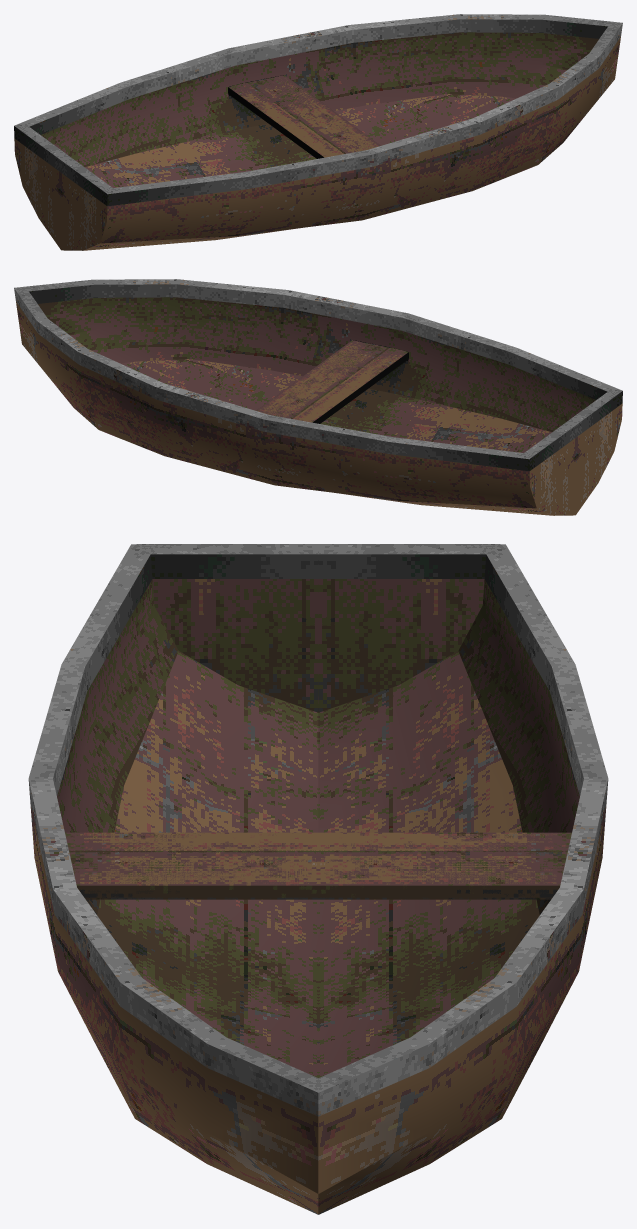
Rendered from Rowboat.glb.
3 renders of one model, top to bottom at view 1: azimuth 30°, elevation 25°; view 2: azimuth 150°, elevation 25°; view 3: azimuth 270°, elevation 25°, orthographic. The views are drawn at different scales.
Visible parts, largest first — view 1: Body; view 2: Body; view 3: Body.
Boxes of the visible parts, x1,y1,x2,y2 form: Body: (14,14,622,250); Body: (14,279,622,515); Body: (28,544,608,1214).
Bounding box in the file's own units: 6.95 × 1.33 × 3.1.
2 materials, 2 textured.
